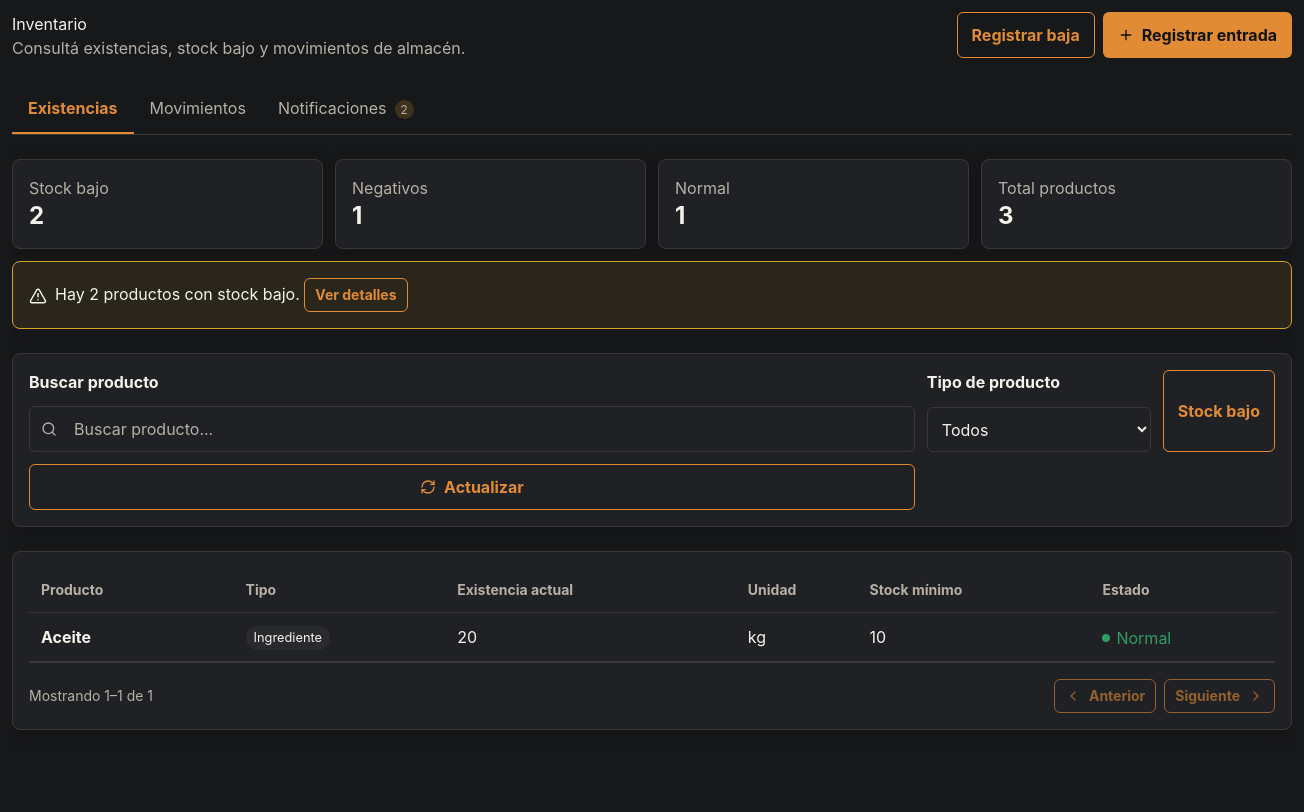
Scenario: InventoryBalancesPage HU-006 › shows global summary values and opens Notifications from the warning details action
Expected: the text "Negativos" is shown, [352,178,428,198]
Expected: the text "Total productos" is shown, [998,178,1116,198]
Step 1. Click the button "Ver detalles" → (356, 295), box [304,278,408,312]
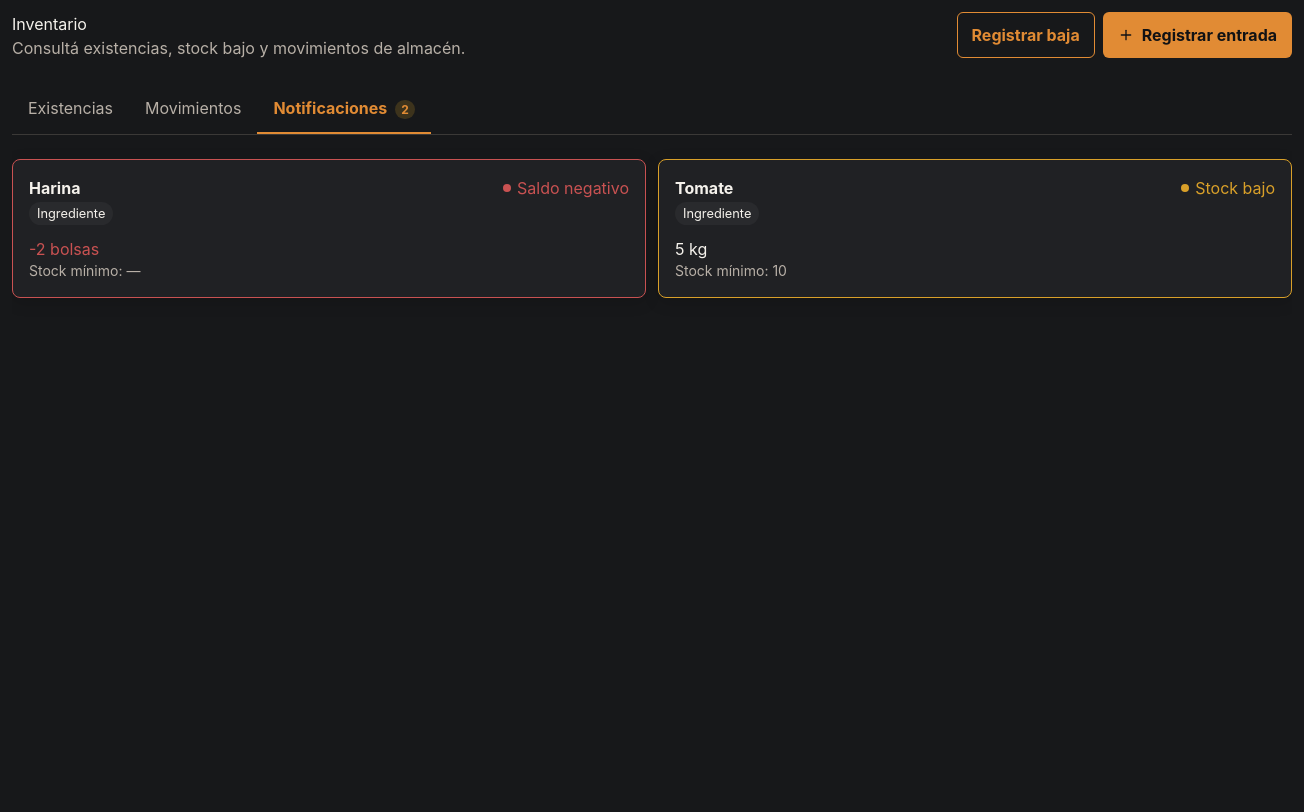
Now the text "Tomate" is shown, box [675,176,733,200]
